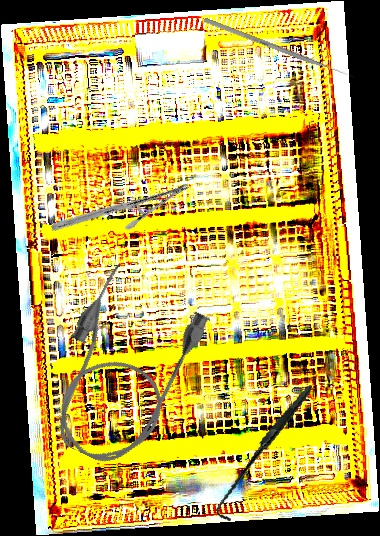Cannula: (28, 258, 215, 479)
Hook Surgical: (193, 384, 338, 524)
Needle Holder: (49, 135, 191, 279)
Pusher: (203, 17, 355, 80)
